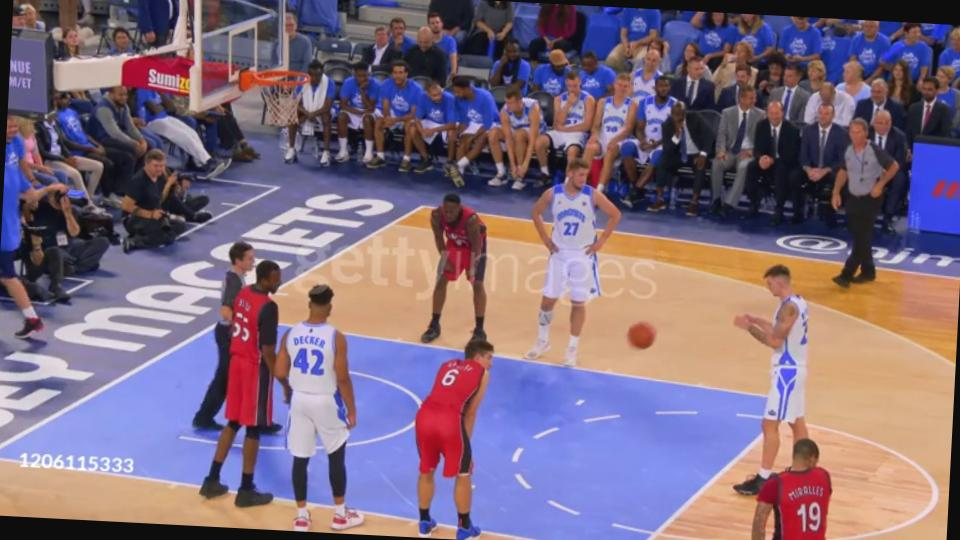hoop: (238, 66, 310, 90)
